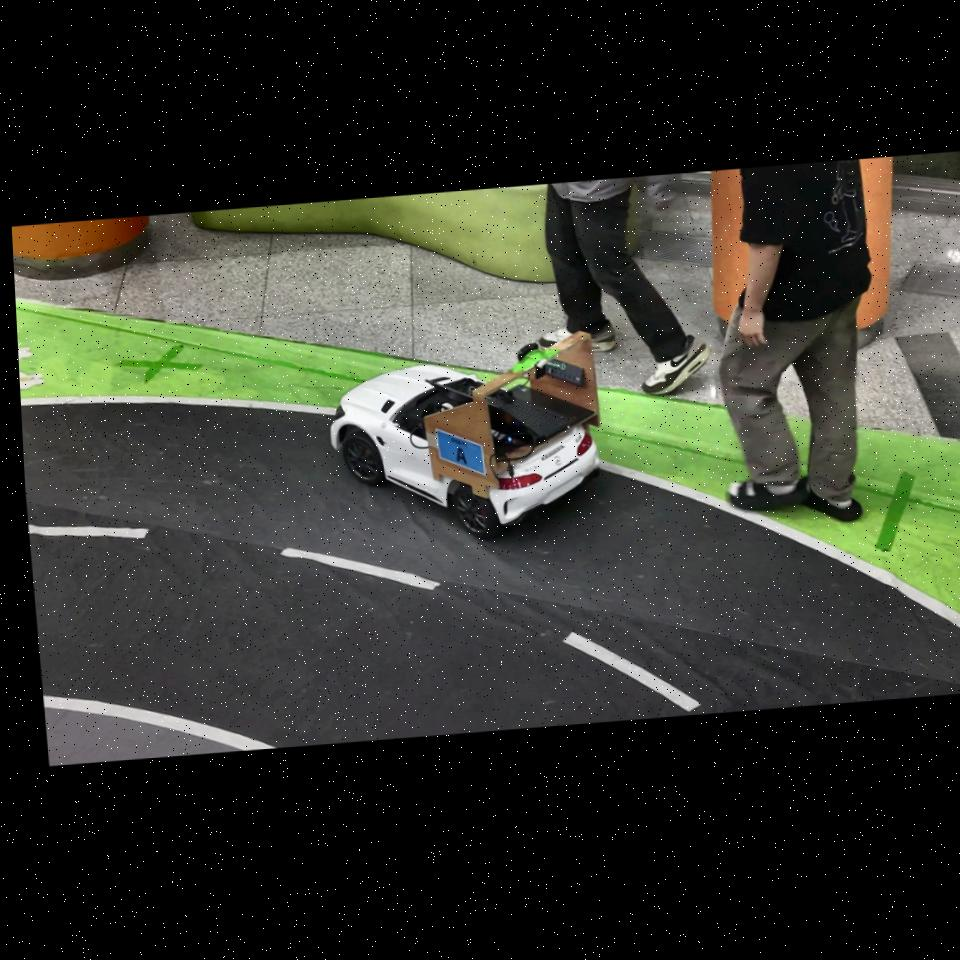broken_line: (562, 632, 702, 712), (280, 547, 441, 591), (28, 524, 150, 539)
